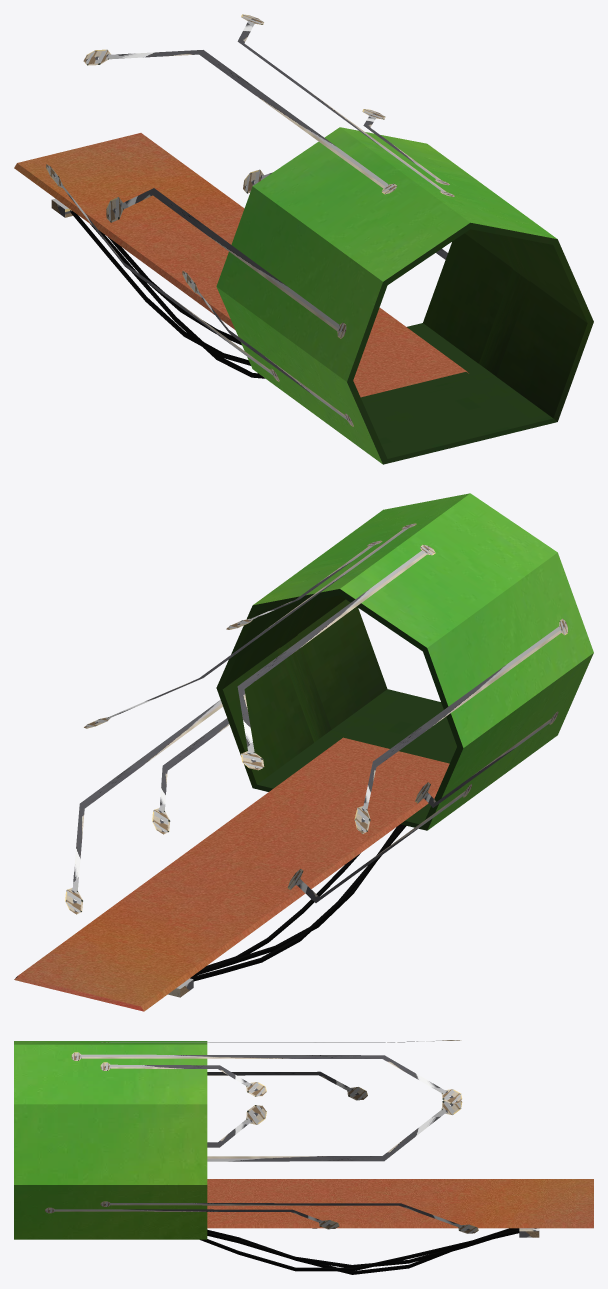
Rendered from meme-factory-bridge-section-art.glb.
3 views of the same model, one above another, from view 1: azimuth 30°, elevation 25°; view 2: azimuth 150°, elevation 25°; view 3: azimuth 270°, elevation 25° (orthographic). The views are drawn at different scales.
Visible parts, largest first — view 1: MemeFactory_BridgeSection_Art; view 2: MemeFactory_BridgeSection_Art; view 3: MemeFactory_BridgeSection_Art.
Boxes of the visible parts, x1=… form: MemeFactory_BridgeSection_Art: x1=14, y1=14, x2=593, y2=464; MemeFactory_BridgeSection_Art: x1=14, y1=493, x2=593, y2=1011; MemeFactory_BridgeSection_Art: x1=14, y1=1040, x2=593, y2=1274.
Bounding box in the file's own units: 4.16 × 4.4 × 10.8.
Materials: 5 (5 with a texture image).
